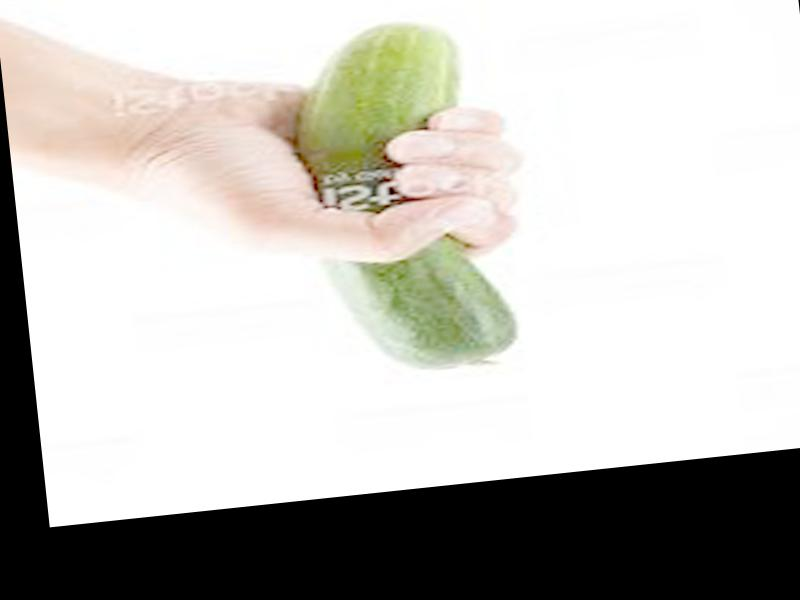Cucumber: (284, 15, 524, 381)
